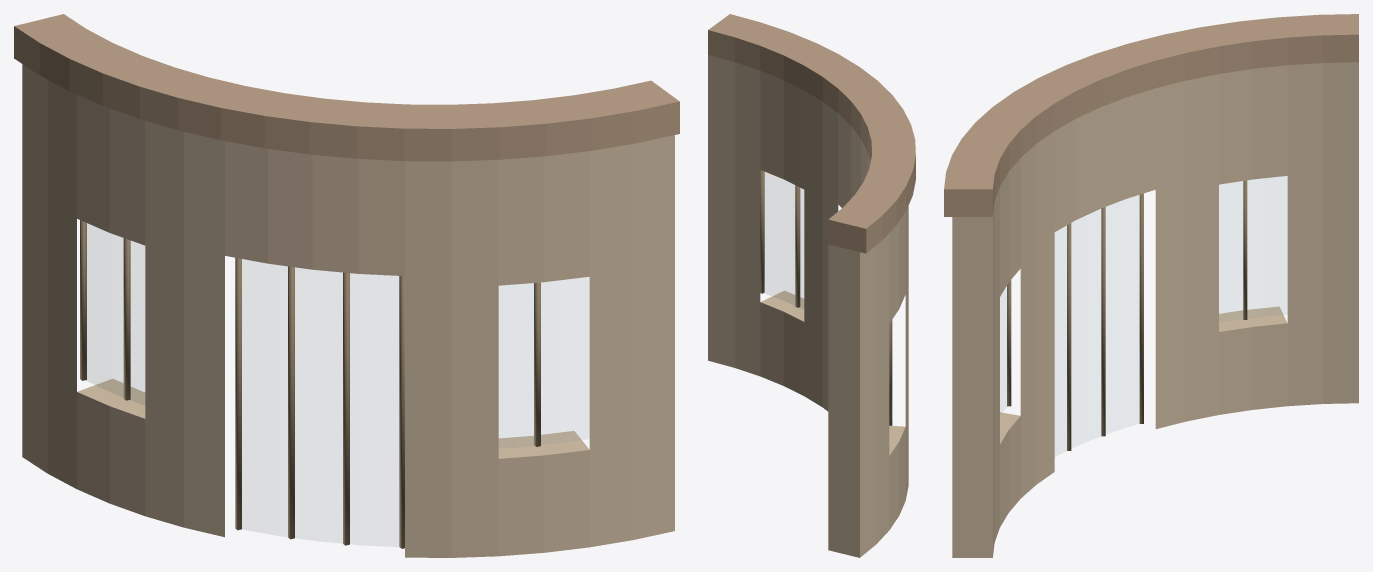
Rendered from city_res_corner_round.glb.
The picture shows the model from 3 angles, left to right: view 1: azimuth 30°, elevation 25°; view 2: azimuth 150°, elevation 25°; view 3: azimuth 270°, elevation 25°; orthographic projection. The views are drawn at different scales.
Parts seen in each view (by area): view 1: CityResCornerRound_Wall, CityResCornerRound_Band, CityResCornerRound_WallGlass1, CityResCornerRound_WallGlass2, CityResCornerRound_WallGlass0, CityResCornerRound_WallMullion1_2, CityResCornerRound_WallMullion1_1, CityResCornerRound_WallMullion1_0, CityResCornerRound_WallMullion1_3, CityResCornerRound_WallMullion0_1, CityResCornerRound_WallMullion2_1, CityResCornerRound_WallMullion0_0; view 2: CityResCornerRound_Wall, CityResCornerRound_Band, CityResCornerRound_WallGlass2, CityResCornerRound_WallMullion2_1, CityResCornerRound_WallMullion2_2, CityResCornerRound_WallMullion0_2; view 3: CityResCornerRound_Wall, CityResCornerRound_Band, CityResCornerRound_WallGlass1, CityResCornerRound_WallGlass0, CityResCornerRound_WallMullion1_0, CityResCornerRound_WallMullion1_1, CityResCornerRound_WallMullion1_2, CityResCornerRound_WallGlass2, CityResCornerRound_WallMullion0_1, CityResCornerRound_WallMullion2_0.
Boxes of the visible parts, box(x1,y1,x2,y2) form: CityResCornerRound_Wall: box(22, 64, 674, 557); CityResCornerRound_Band: box(14, 14, 679, 161); CityResCornerRound_WallGlass1: box(242, 259, 398, 546); CityResCornerRound_WallGlass2: box(499, 277, 588, 447); CityResCornerRound_WallGlass0: box(85, 223, 144, 404); CityResCornerRound_WallMullion1_2: box(343, 272, 349, 545); CityResCornerRound_WallMullion1_1: box(288, 266, 294, 539); CityResCornerRound_WallMullion1_0: box(235, 257, 241, 530); CityResCornerRound_WallMullion1_3: box(399, 276, 404, 548); CityResCornerRound_WallMullion0_1: box(123, 238, 130, 400); CityResCornerRound_WallMullion2_1: box(534, 282, 540, 446); CityResCornerRound_WallMullion0_0: box(80, 220, 86, 380); CityResCornerRound_Wall: box(708, 55, 908, 557); CityResCornerRound_Band: box(708, 14, 915, 253); CityResCornerRound_WallGlass2: box(764, 172, 803, 308); CityResCornerRound_WallMullion2_1: box(795, 185, 800, 307); CityResCornerRound_WallMullion2_2: box(760, 170, 764, 293); CityResCornerRound_WallMullion0_2: box(889, 320, 891, 419); CityResCornerRound_Wall: box(952, 62, 1358, 557); CityResCornerRound_Band: box(944, 14, 1358, 216); CityResCornerRound_WallGlass1: box(1055, 195, 1138, 456); CityResCornerRound_WallGlass0: box(1219, 176, 1286, 322); CityResCornerRound_WallMullion1_0: box(1139, 193, 1143, 423); CityResCornerRound_WallMullion1_1: box(1101, 207, 1105, 436); CityResCornerRound_WallMullion1_2: box(1067, 223, 1071, 450); CityResCornerRound_WallGlass2: box(1000, 285, 1007, 413); CityResCornerRound_WallMullion0_1: box(1243, 180, 1247, 319); CityResCornerRound_WallMullion2_0: box(1007, 280, 1011, 406).
Bounding box in the file's own units: 4.08 × 4 × 4.08.
